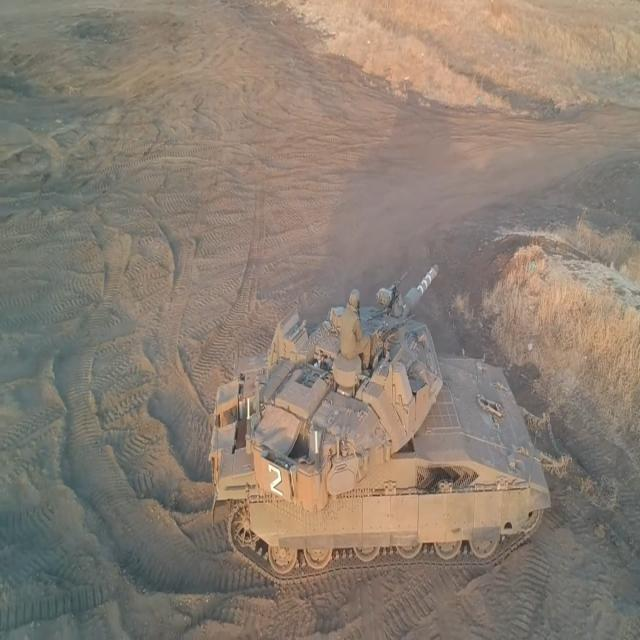tank: (203, 261, 558, 570)
